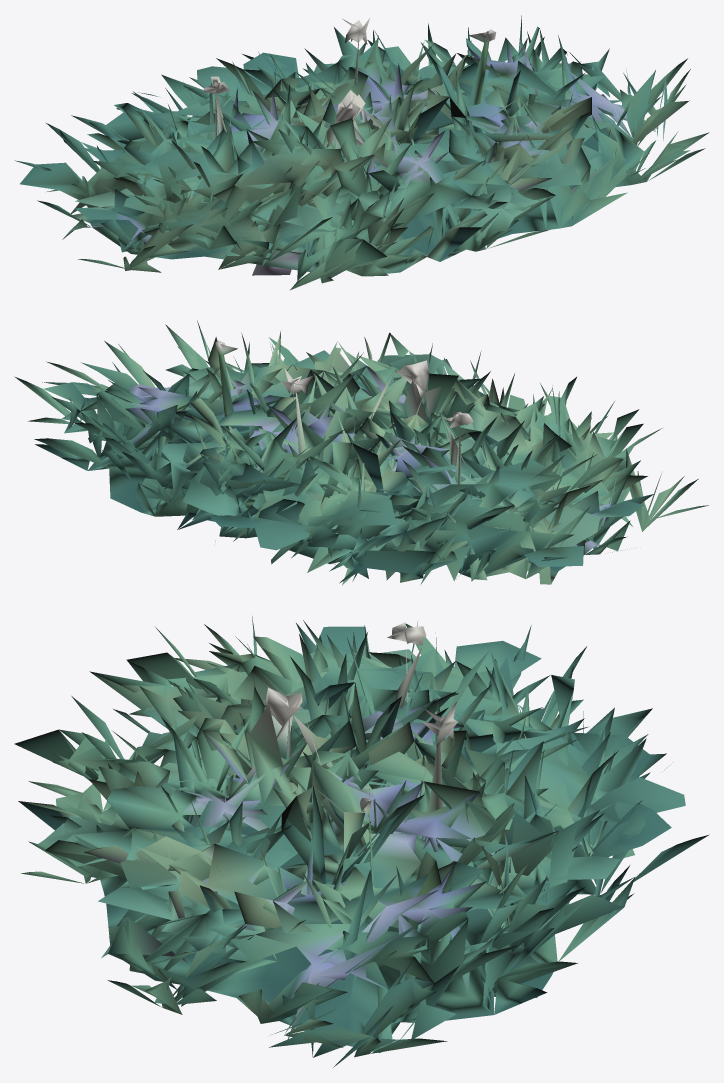
File: clover.glb
The picture shows the model from 3 angles, top to bottom: view 1: azimuth 30°, elevation 25°; view 2: azimuth 150°, elevation 25°; view 3: azimuth 270°, elevation 25°; orthographic projection. The views are drawn at different scales.
Visible parts, largest first — view 1: clover; view 2: clover; view 3: clover.
Part boxes in pixels (x1,y1,x2,y2): clover: [15, 15, 709, 290]; clover: [14, 320, 708, 585]; clover: [14, 616, 709, 1067].
Bounding box in the file's own units: 5.05 × 1.07 × 3.42.
